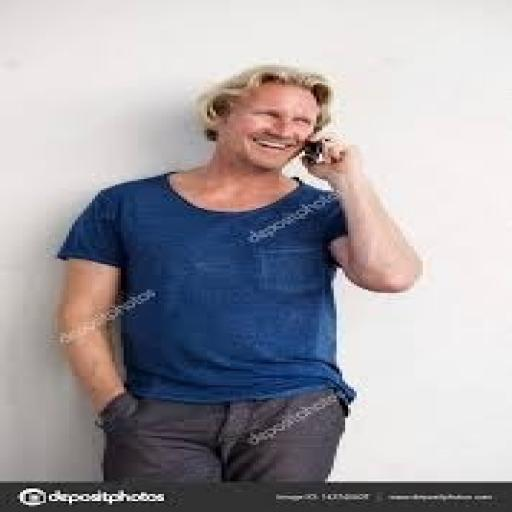calling: (52, 63, 426, 483)
